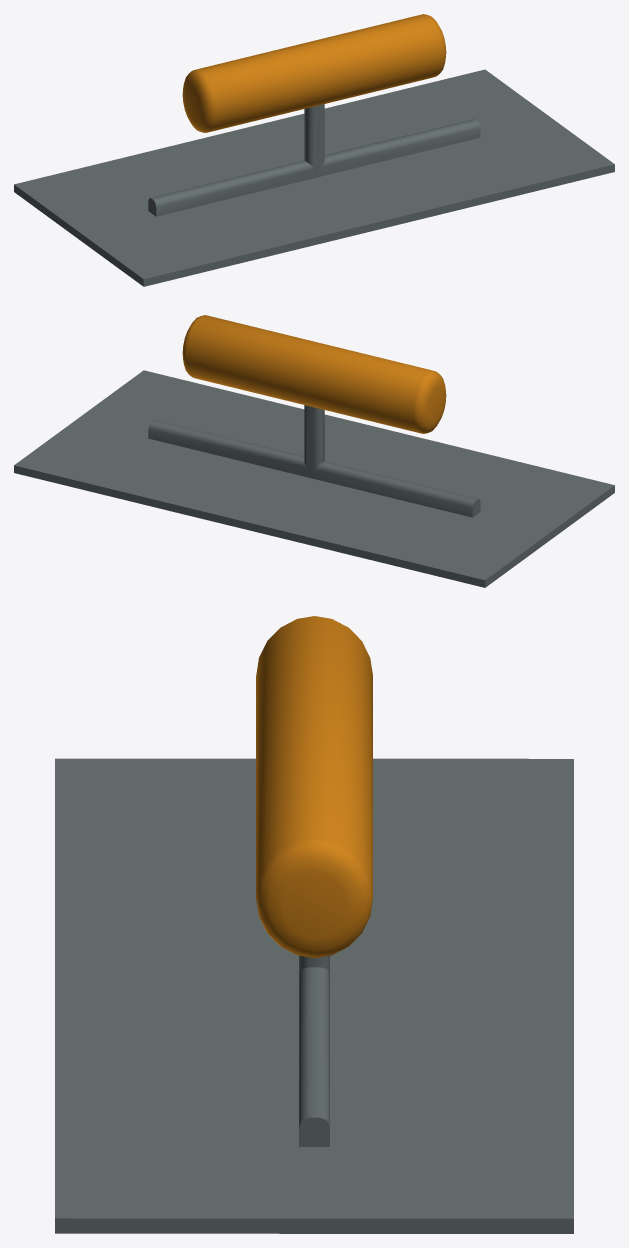
File: 铁抹子.FBX
3 renders of one model, top to bottom at view 1: azimuth 30°, elevation 25°; view 2: azimuth 150°, elevation 25°; view 3: azimuth 270°, elevation 25°, orthographic. The views are drawn at different scales.
Parts seen in each view (by area): view 1: JJ_tiemozi; view 2: JJ_tiemozi; view 3: JJ_tiemozi.
Part boxes in pixels (x1,y1,x2,y2): JJ_tiemozi: [14, 14, 614, 286]; JJ_tiemozi: [14, 315, 614, 587]; JJ_tiemozi: [55, 616, 573, 1233].
Bounding box in the file's own units: 15.7 × 4.41 × 7.49.
